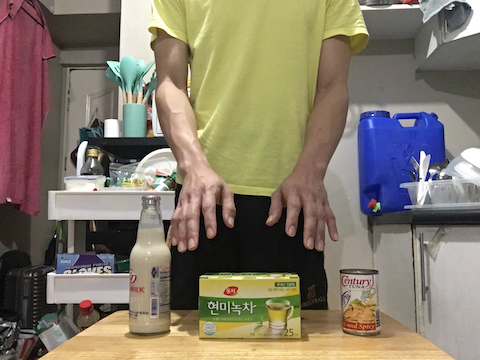bottle: (125, 190, 179, 338)
box: (193, 269, 308, 343)
can: (339, 266, 384, 337)
